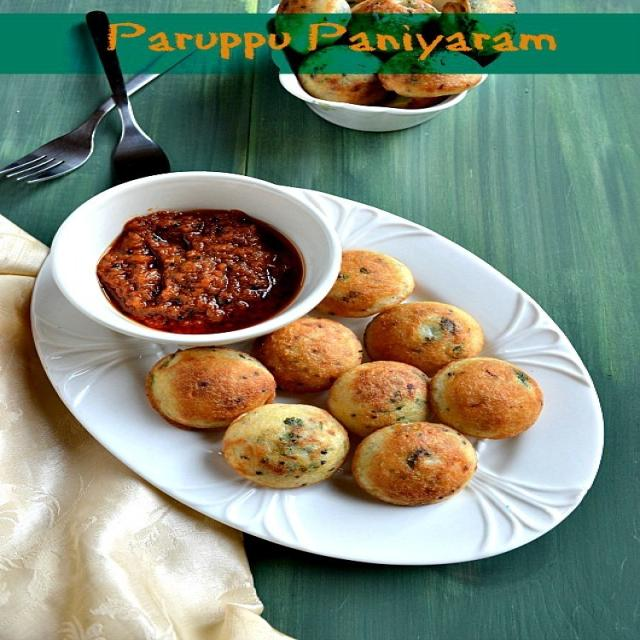kaara chutney: (83, 191, 319, 335)
